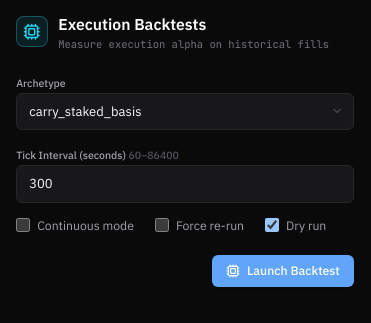
it: ExecutionBacktests › inline error disappears when tick interval is corrected
Replace the text in the number field with test id "tick-interval-input" with "30" at x=185, y=184, box left=16, top=165, right=354, bottom=202
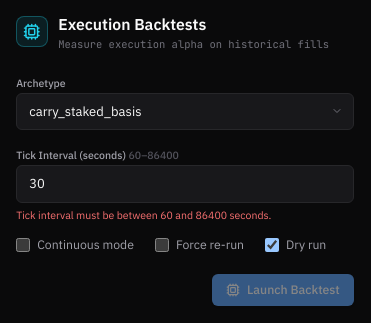
Check: the text "Tick interval must be between 60 and 86400 seconds." is shown, box left=16, top=208, right=271, bottom=222
Replace the text in the number field with test id "tick-interval-input" with "300" at x=185, y=184, box left=16, top=165, right=354, bottom=202
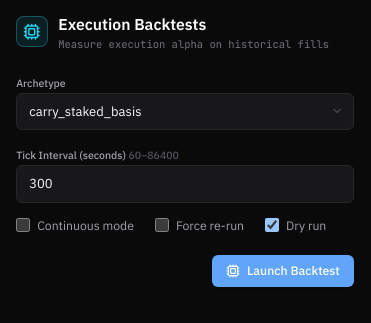
Check: the text "60 and 86400" is gone
